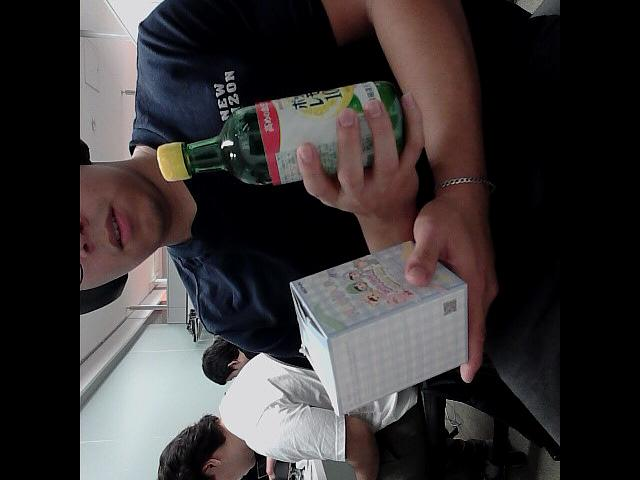Blind_box: (290, 236, 480, 406)
Lemon_sapporo: (158, 71, 404, 188)
